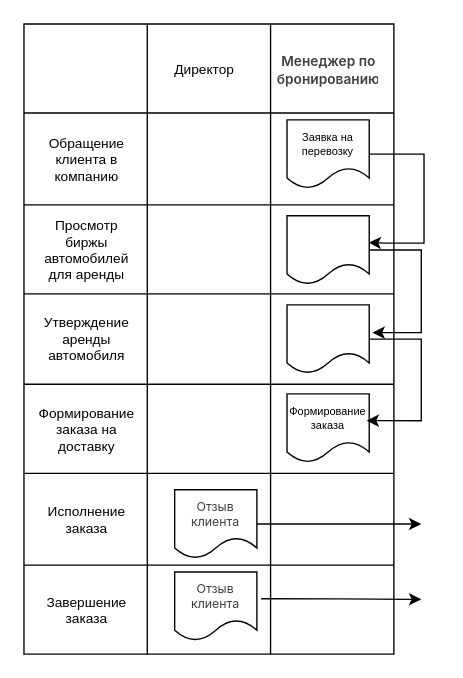
Some shapes in this 463 by 678 pixel diagram are drawn without their labels. The centre of each missing label's shape, as x and y in pixels:
Подтверждение аренды автомобиля: pixel 327 338
Просмотр откликов на аренду автомобиля: pixel 327 249
